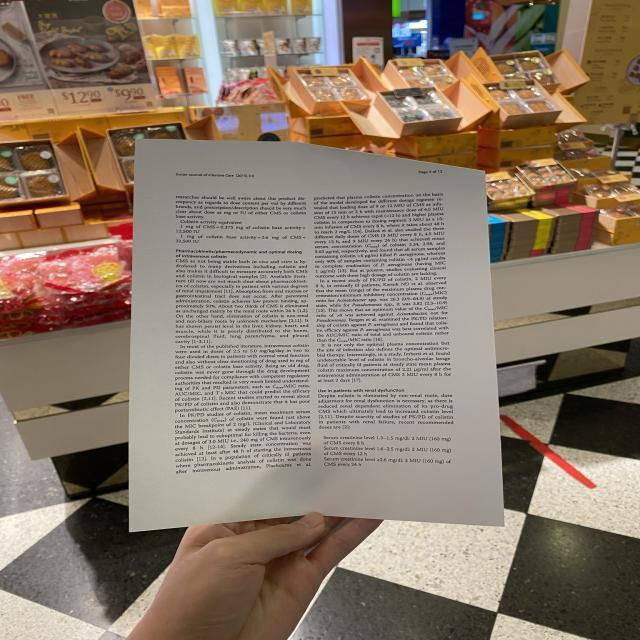document: (130, 140, 503, 529)
